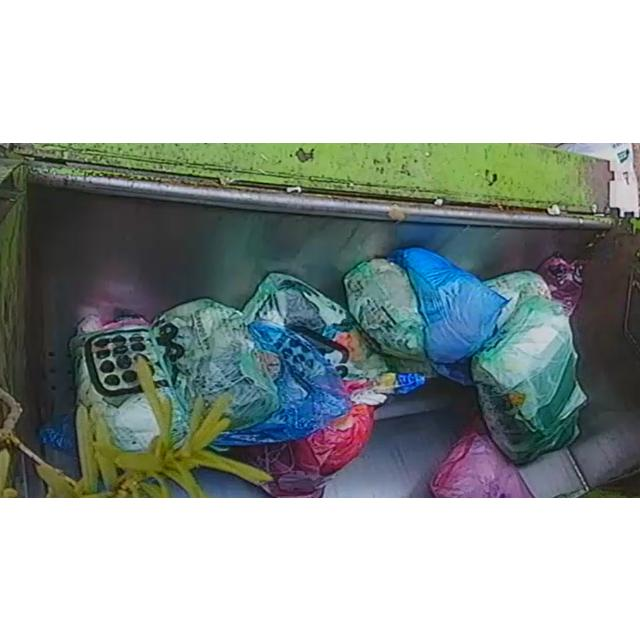general_trashbag: (242, 272, 399, 404), (471, 294, 586, 463), (151, 297, 279, 436), (70, 314, 188, 450), (344, 257, 436, 375), (485, 270, 551, 326)
other_trashbag: (214, 320, 351, 446), (391, 247, 506, 362), (248, 403, 375, 495), (538, 254, 585, 314)
